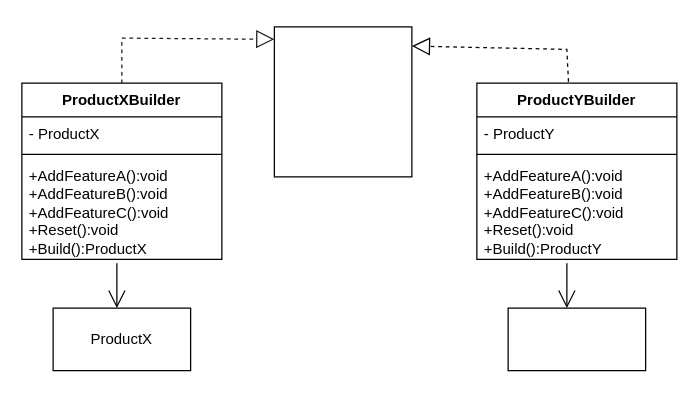
Image size: 699x393. Some labels were removed from this diagram. Here are the shapes that lost their labels. From the top down, the centre of each, then its label:
At (342,101): "«interface» IBuilder +AddFeatureA() +AddFeatureB() +AddFeatureC() +Reset()".
At (576,339): "ProductY".
